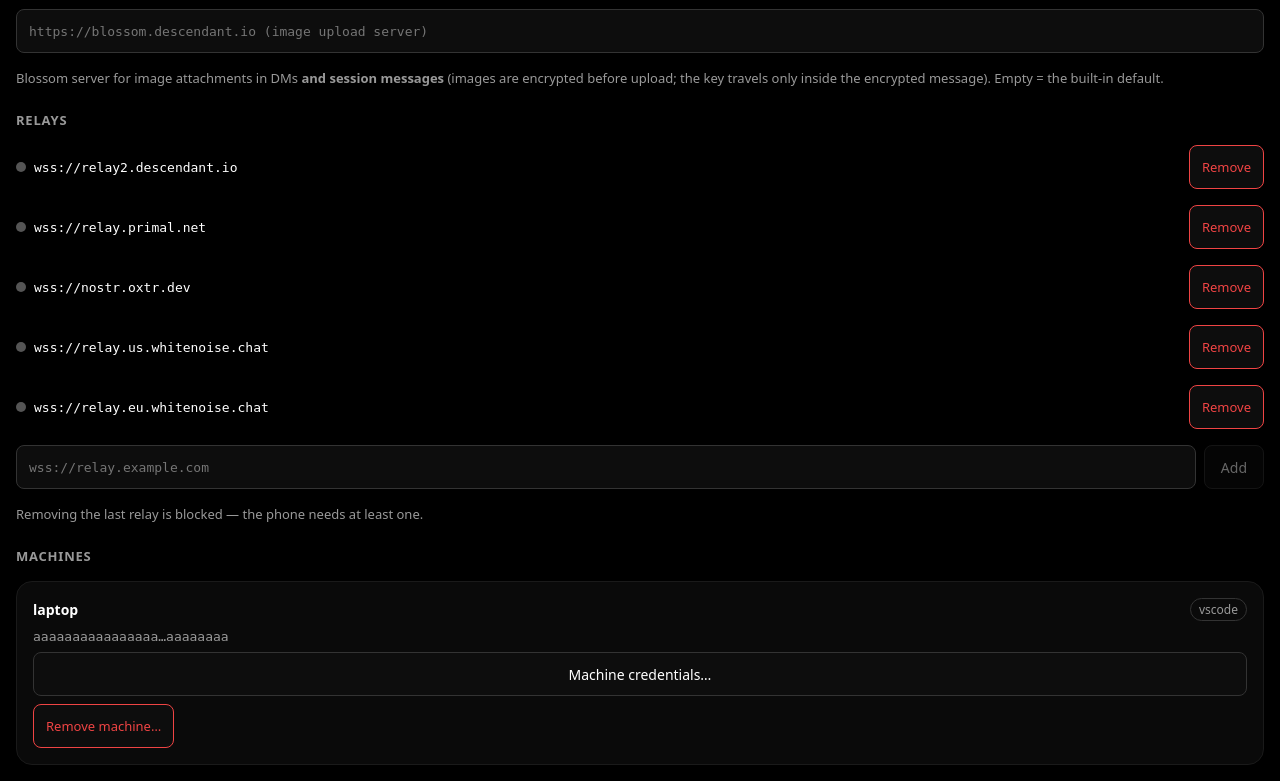
Scenario: Settings — Machines section (Phase 2b) › confirming removes the machine (block gone, store empty)
This screenshot has width=1280, height=781.
(page scrolled)
Click the button "Remove machine…" at (104, 726), box [33,704,174,748]
(page scrolled)
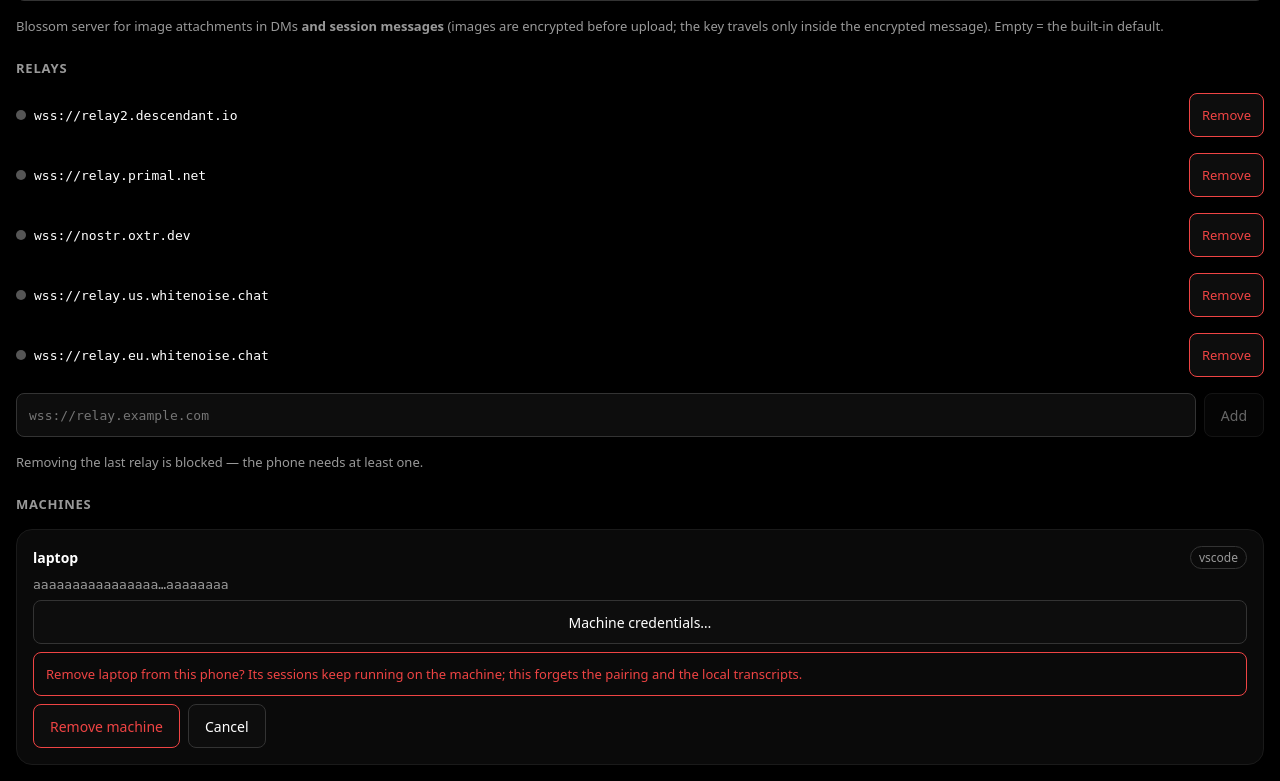
Click the button "Remove machine" at (106, 726), box [33,704,180,748]
(page scrolled)
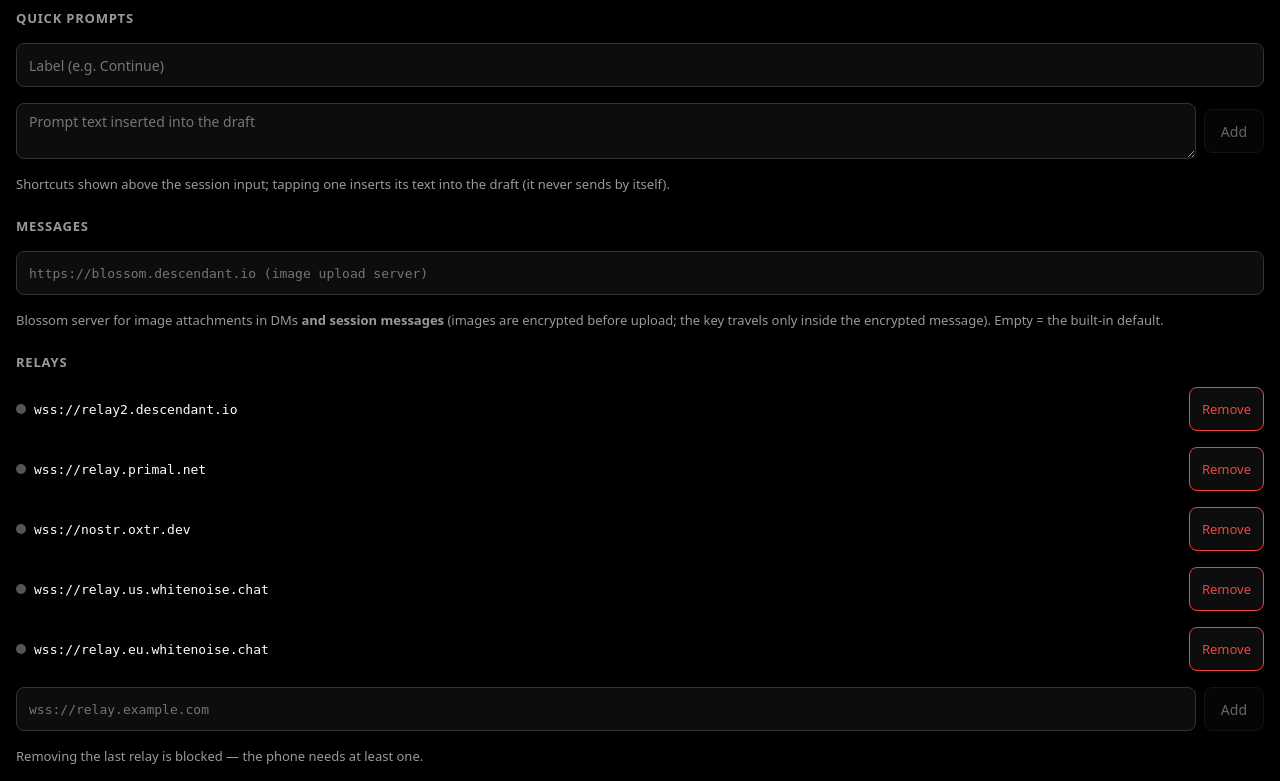
Result: the element with test id "machine-block" is gone
